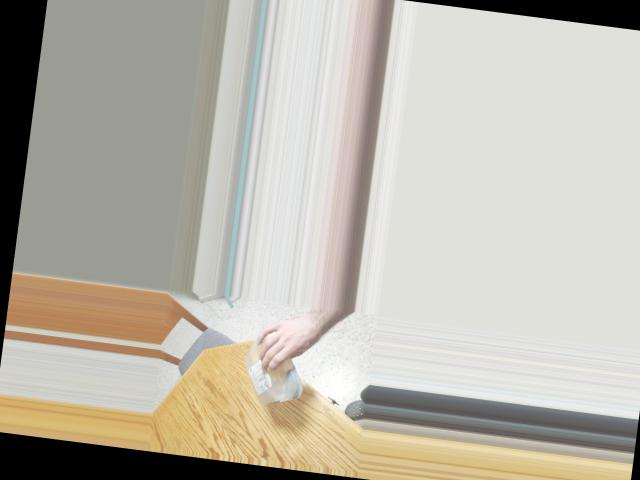cheese: (243, 338, 291, 400)
